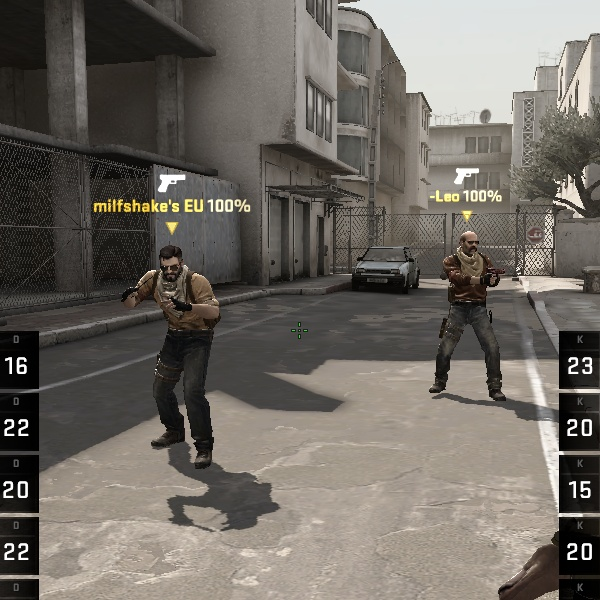t_body: (112, 238, 238, 468), (414, 226, 513, 401)
t_head: (149, 240, 193, 286), (451, 226, 485, 261)
